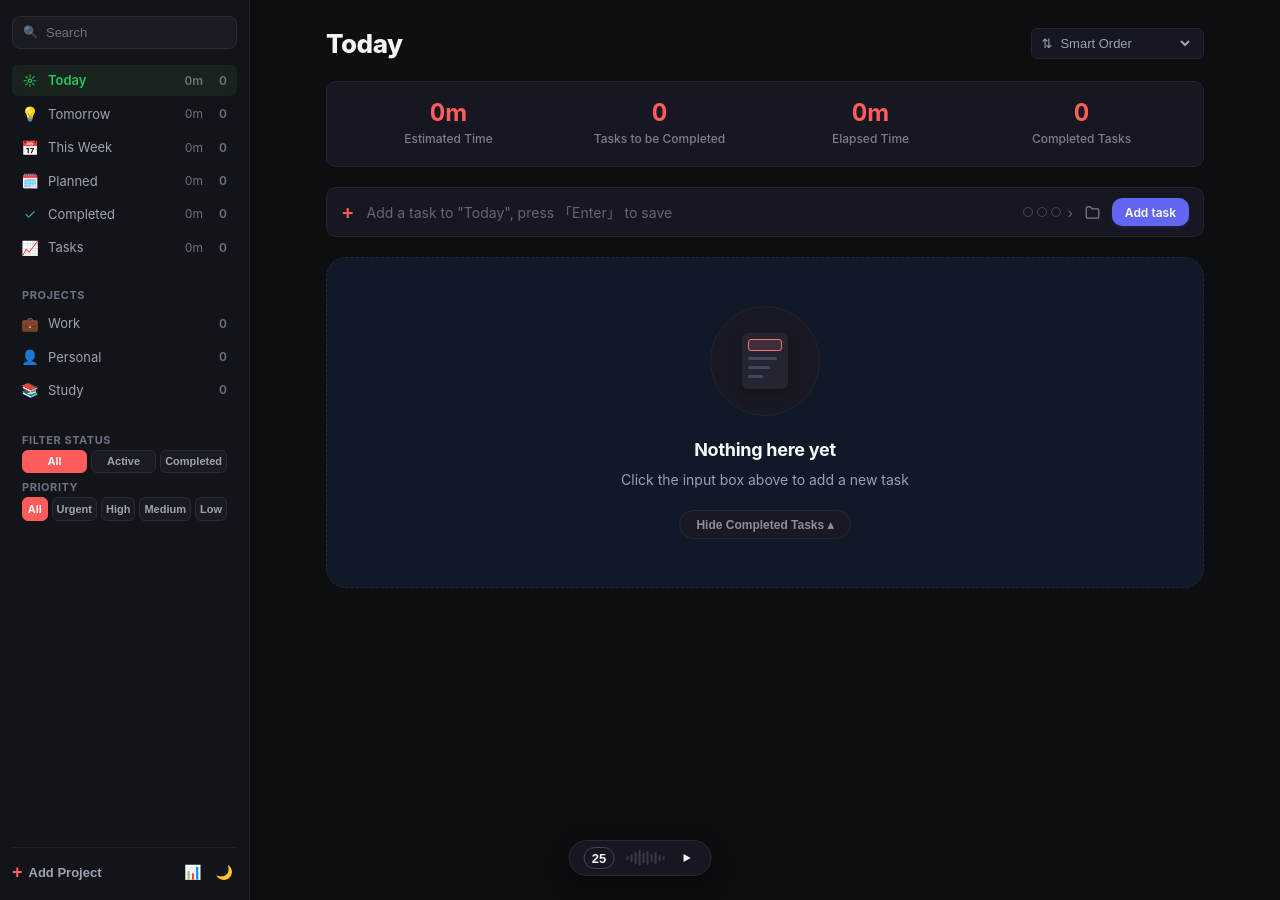
App component integration › clears validation error when user starts typing
Click the button "Add task" at (1150, 212), box [1112, 198, 1189, 226]
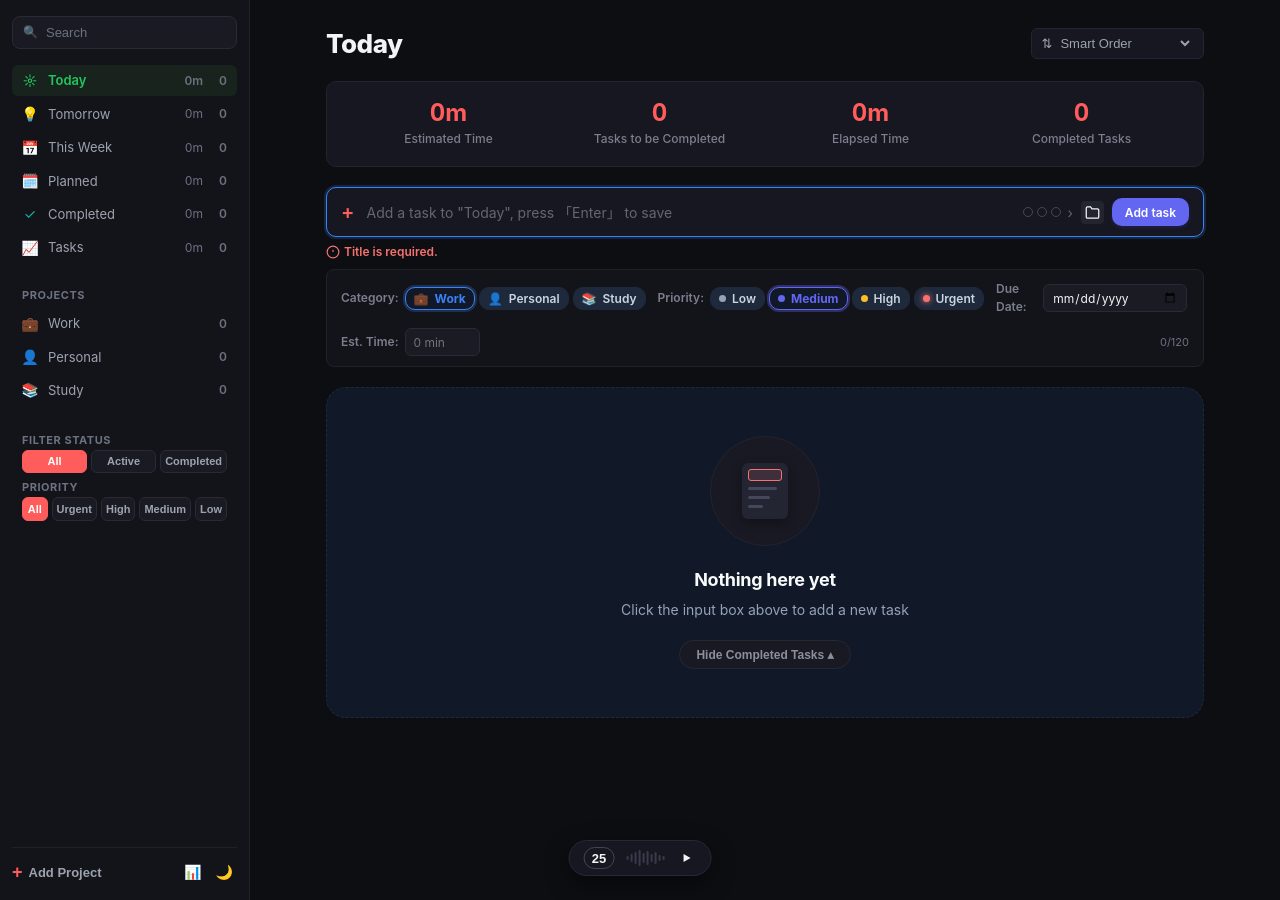
Now the message "Title is required." is shown, box [326, 244, 438, 259]
Type "A" into the field named "title" at (689, 212), box [366, 204, 1012, 221]
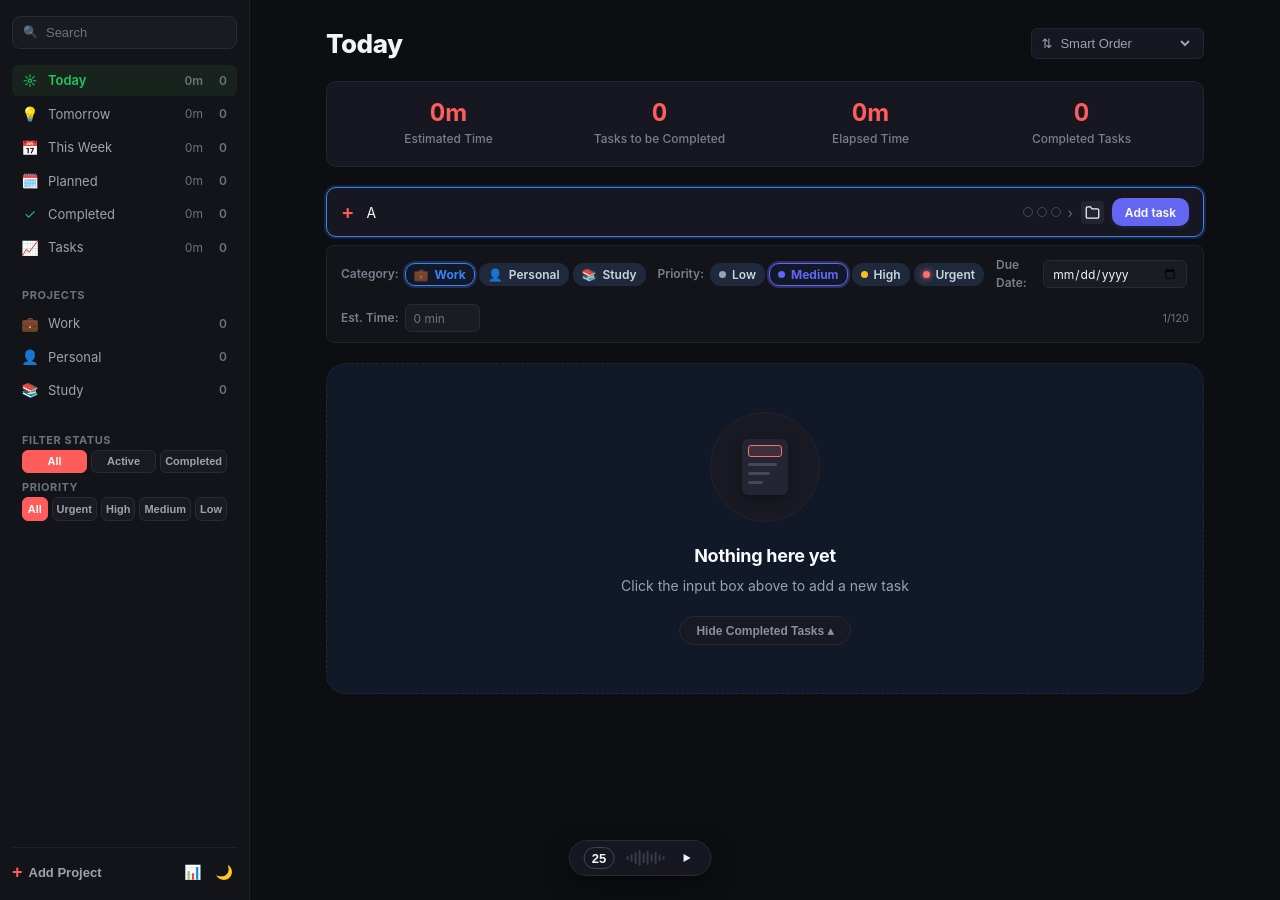
Now the message "Title is required." is gone
